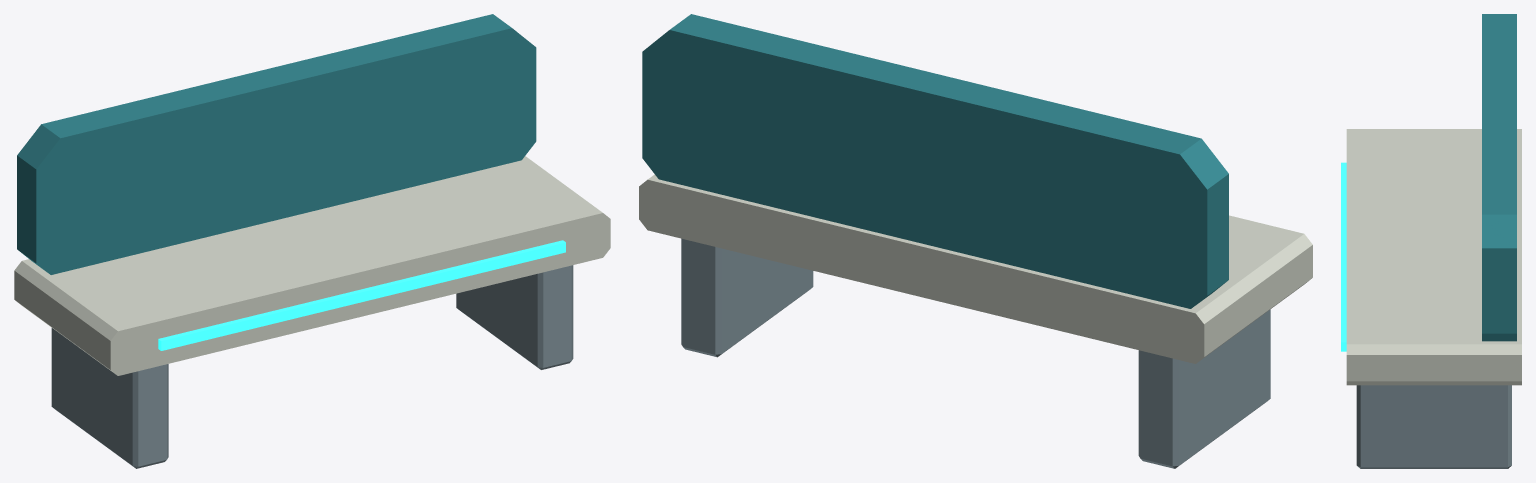
The model's file is City_Bench.glb.
3 renders of one model, left to right at view 1: azimuth 30°, elevation 25°; view 2: azimuth 150°, elevation 25°; view 3: azimuth 270°, elevation 25°, orthographic. The views are drawn at different scales.
Parts seen in each view (by area): view 1: City_Bench_Back, City_Bench_Seat, City_Bench_Legs; view 2: City_Bench_Back, City_Bench_Seat, City_Bench_Legs; view 3: City_Bench_Seat, City_Bench_Legs, City_Bench_Back.
Boxes of the visible parts, box(x1,y1,x2,y2) form: City_Bench_Back: box(17, 14, 565, 350); City_Bench_Seat: box(14, 156, 610, 375); City_Bench_Legs: box(51, 265, 573, 468); City_Bench_Back: box(642, 14, 1228, 308); City_Bench_Seat: box(639, 174, 1312, 363); City_Bench_Legs: box(681, 238, 1270, 468); City_Bench_Seat: box(1346, 129, 1521, 385); City_Bench_Legs: box(1356, 385, 1511, 468); City_Bench_Back: box(1341, 14, 1516, 351).
Size of the model in its own units: 2.1 by 1.14 by 0.7225.
